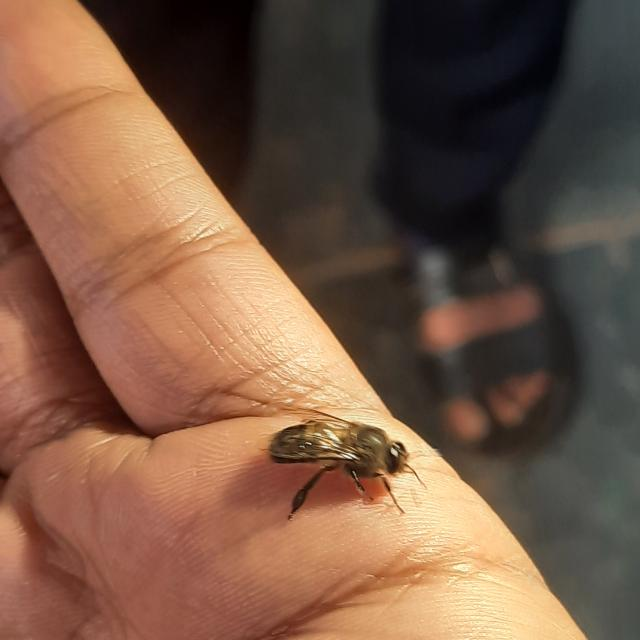honeybee: (262, 414, 426, 508)
